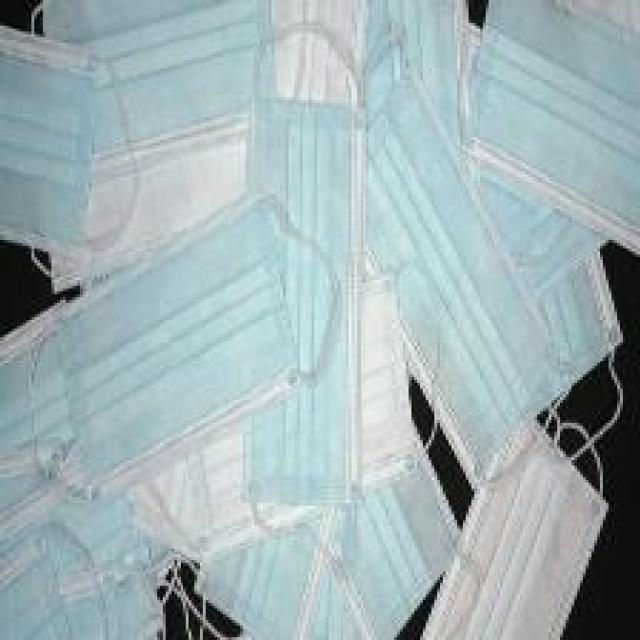Mask: (20, 0, 628, 631), (47, 198, 323, 472), (240, 32, 376, 515), (461, 0, 640, 252)
